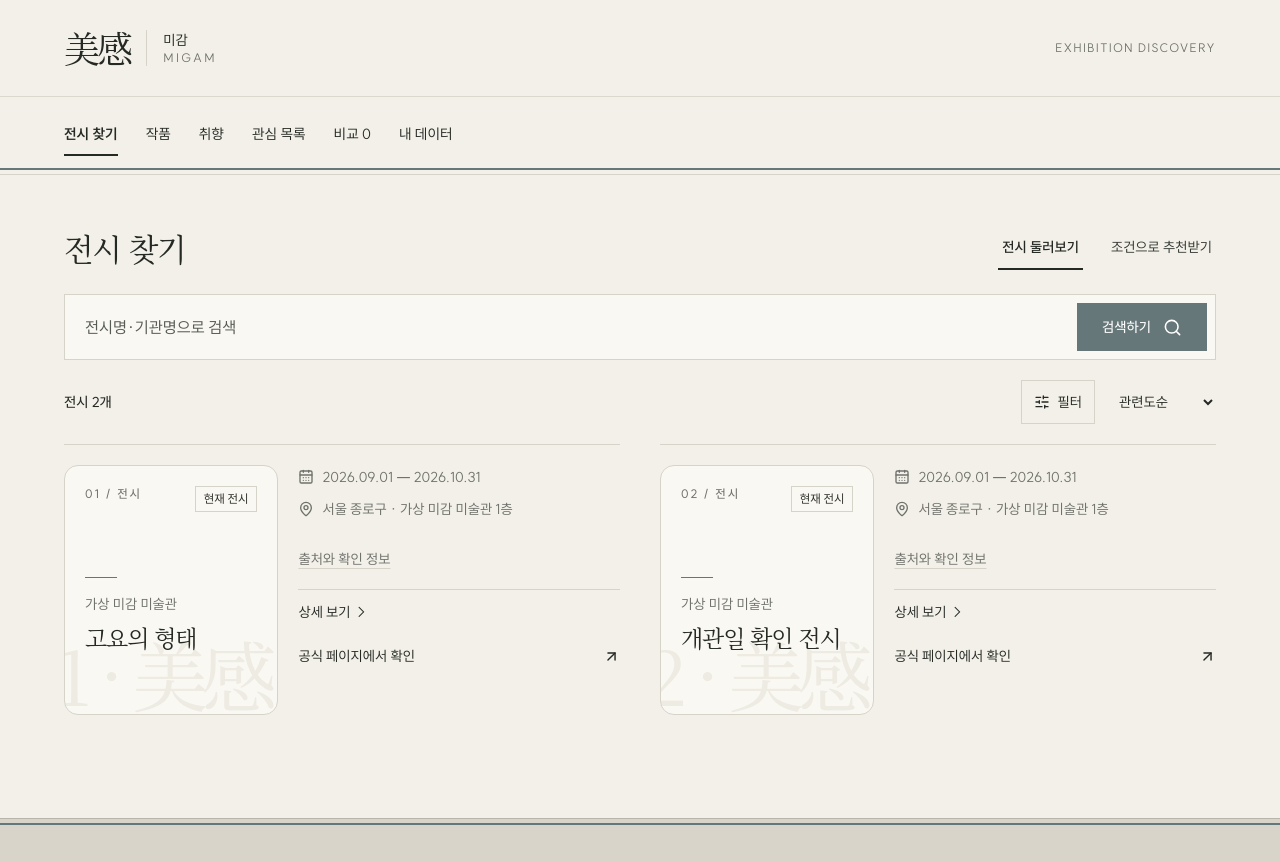
it: keeps mixed opening evidence aligned with the correct exhibition in comparison
Click the link with aria-label "고요의 형태 상세 보기": (333, 612) x1=298 y1=603 x2=368 y2=621
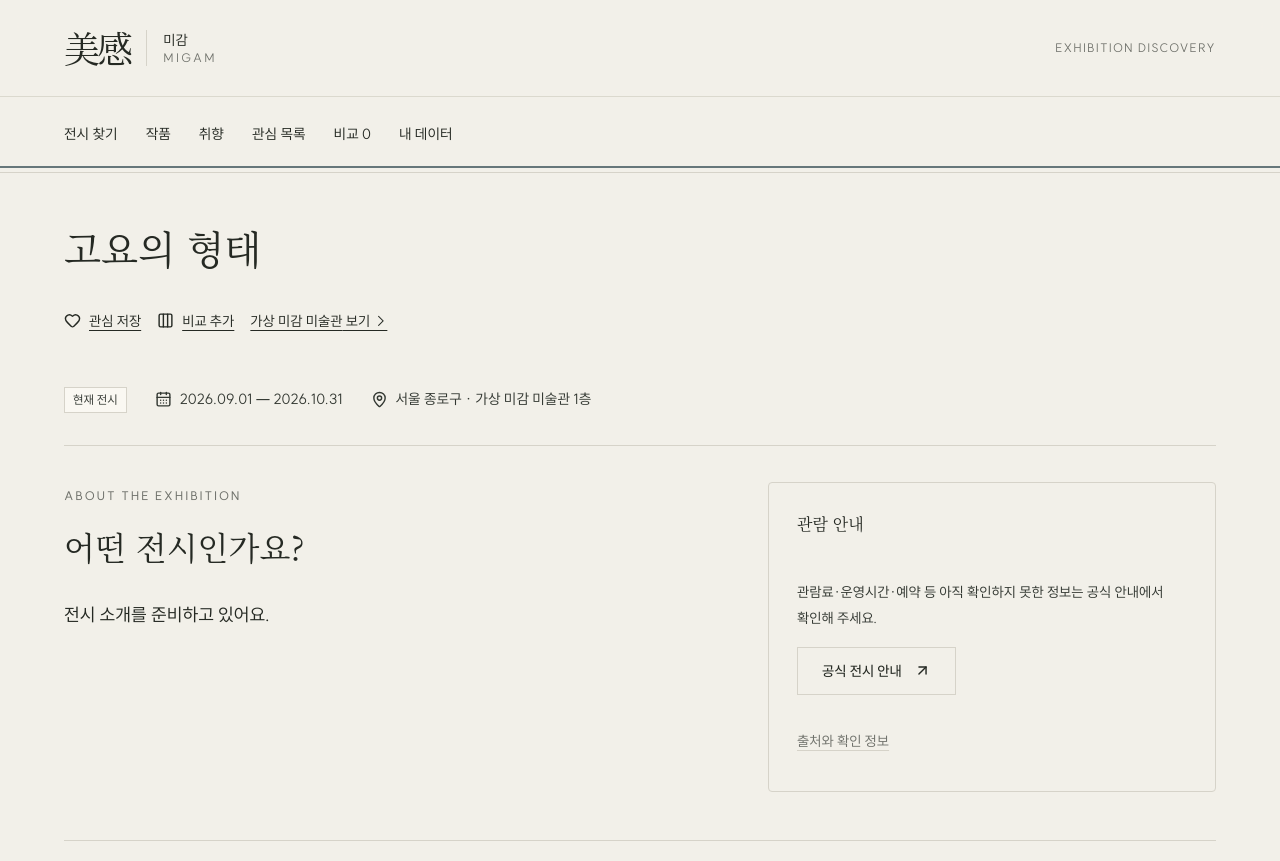
Click the button "비교 추가": (196, 321) x1=157 y1=299 x2=234 y2=343
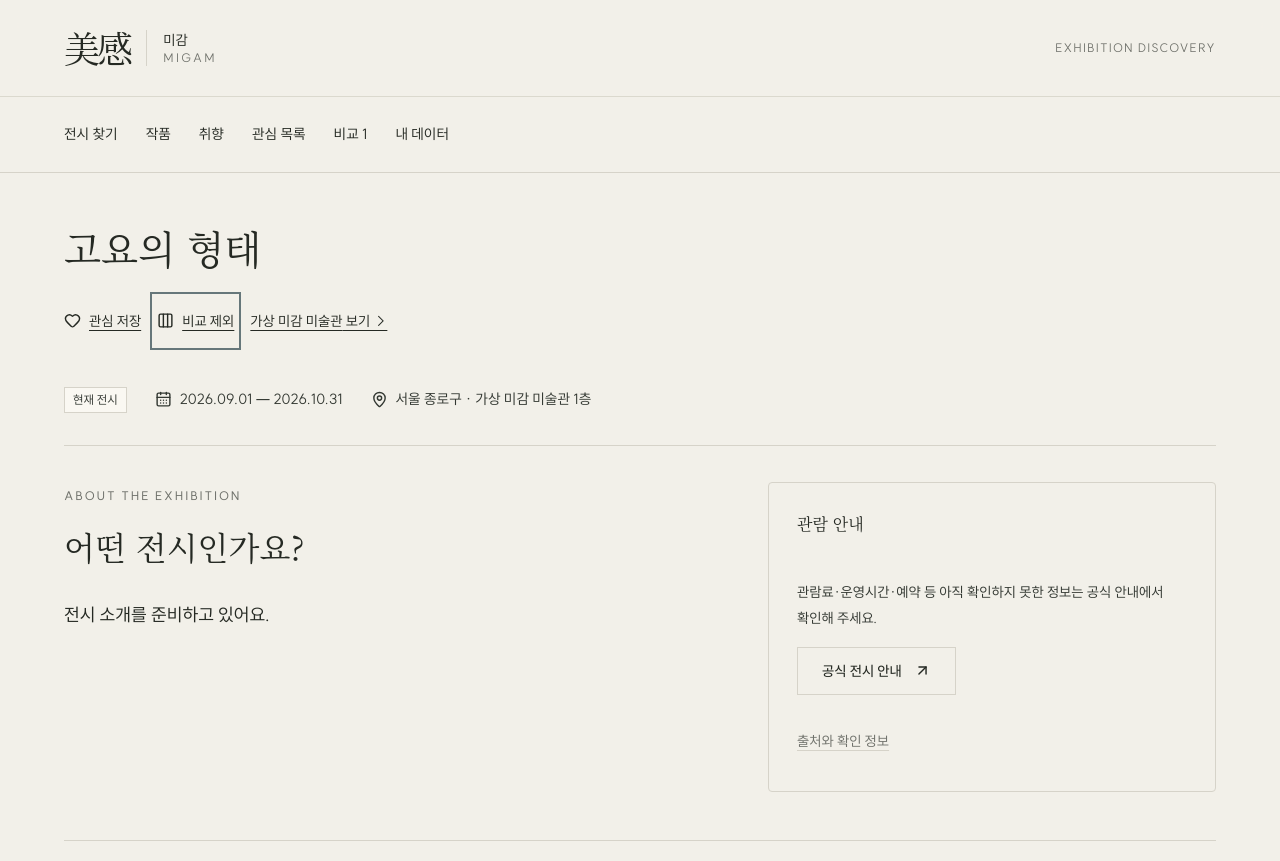
Click the link "전시 찾기": (91, 134) x1=64 y1=125 x2=118 y2=143
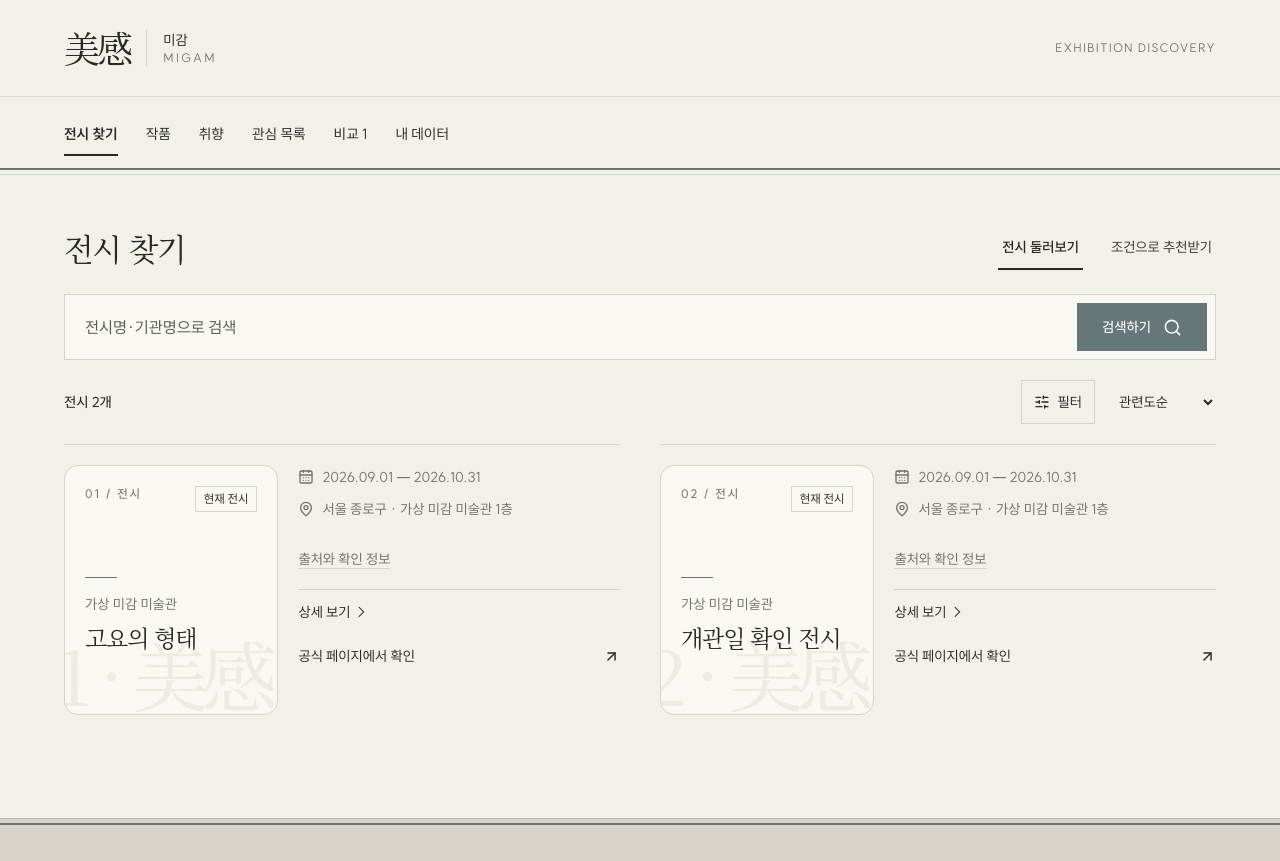
Click the link with aria-label "개관일 확인 전시 상세 보기": (929, 612) x1=894 y1=603 x2=964 y2=621
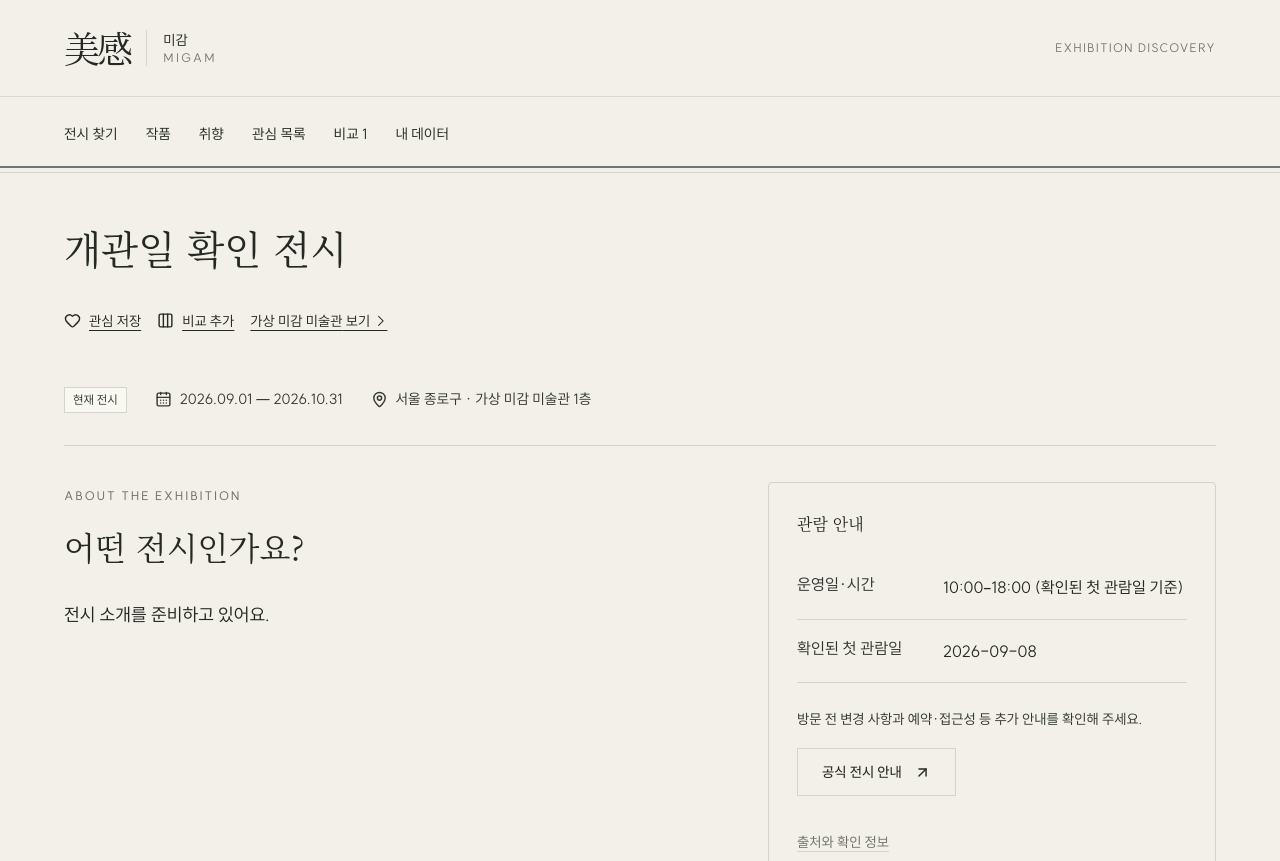
Click the button "비교 추가": (196, 321) x1=157 y1=299 x2=234 y2=343
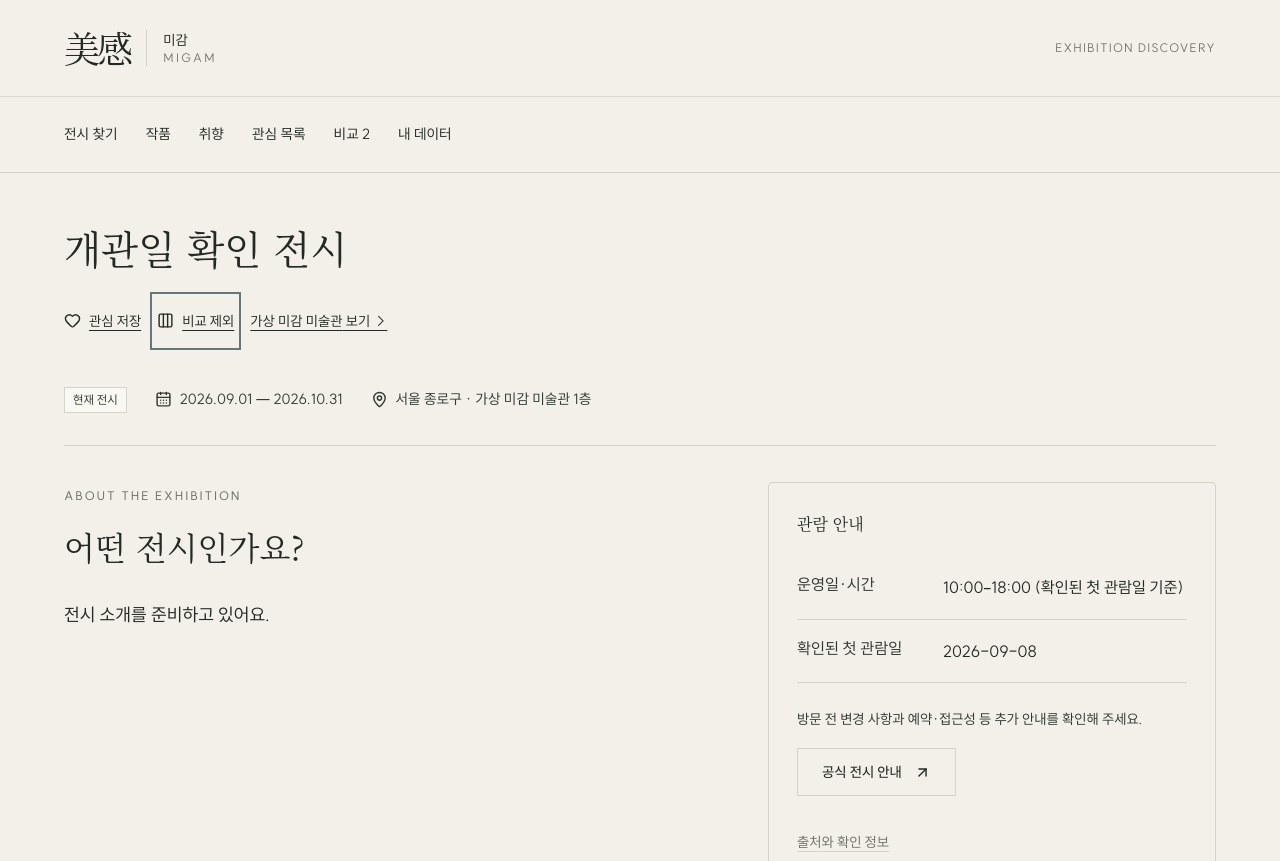
Click the link "비교 2": (352, 134) x1=334 y1=125 x2=370 y2=143
(page scrolled)
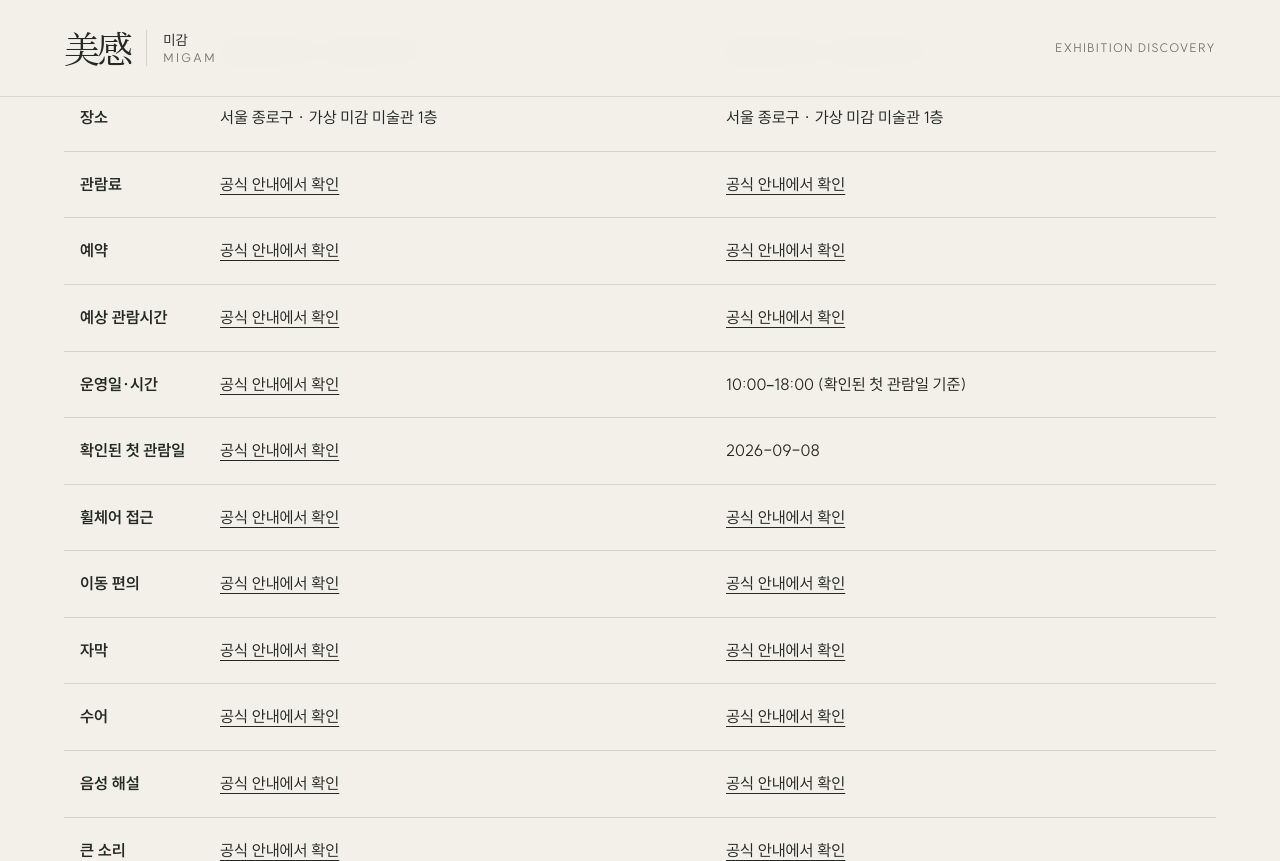
expect the cell "2026-09-08" is shown: met, box x1=710 y1=418 x2=1216 y2=484
expect the number of links "공식 안내에서 확인" is 2: met, box x1=220 y1=507 x2=339 y2=527; x1=726 y1=507 x2=845 y2=527
